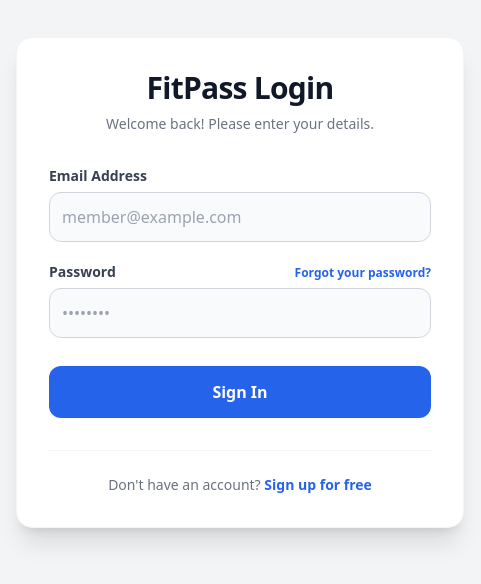
it: Login › rejects a malformed address and a short password
Step 1. Type "member@example" into the field labelled "Email Address" → (240, 216), box [49,192,431,242]
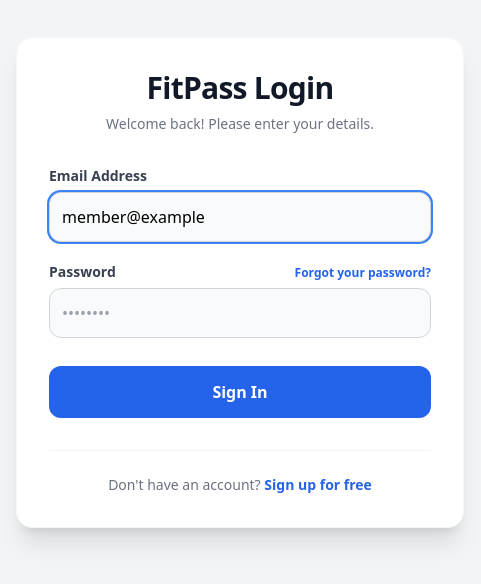
Step 2. Type "12345" into the password field labelled "Password" → (240, 312), box [49,288,431,338]
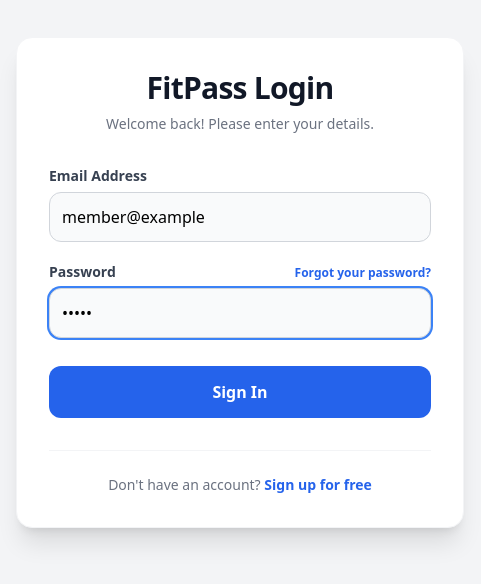
Step 3. Click the button "Sign In" → (240, 392), box [49,366,431,418]
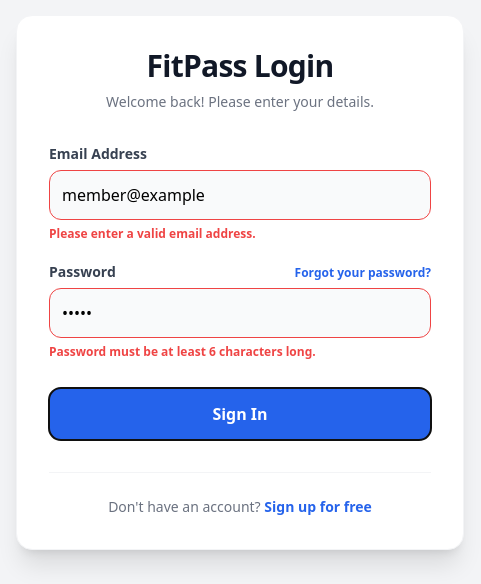
Expected: the text "Please enter a valid email address." is shown, [49,224,256,242]
Expected: the text "Password must be at least 6 characters long." is shown, [49,342,316,360]
